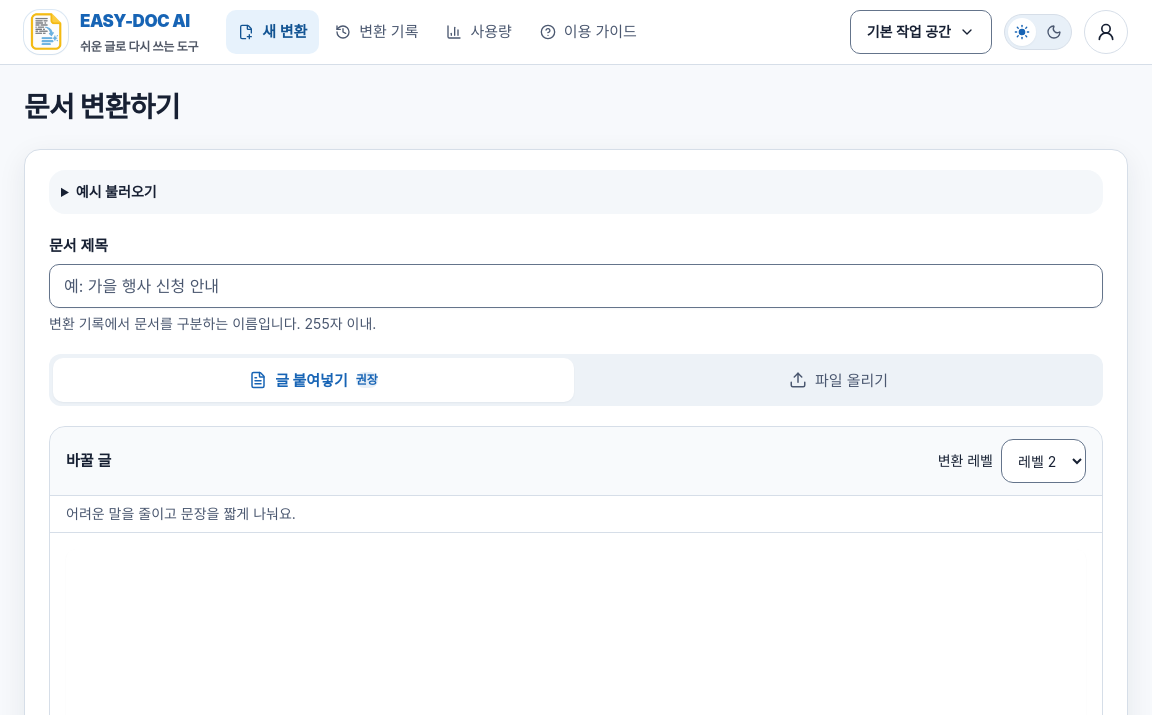
Test: 인증 가드 › 로그아웃하면 토큰을 지우고 공개 랜딩으로 돌아간다
Click the button named "계정 메뉴".
click(1106, 32)  # box top-left (1084, 10), bottom-right (1128, 54)
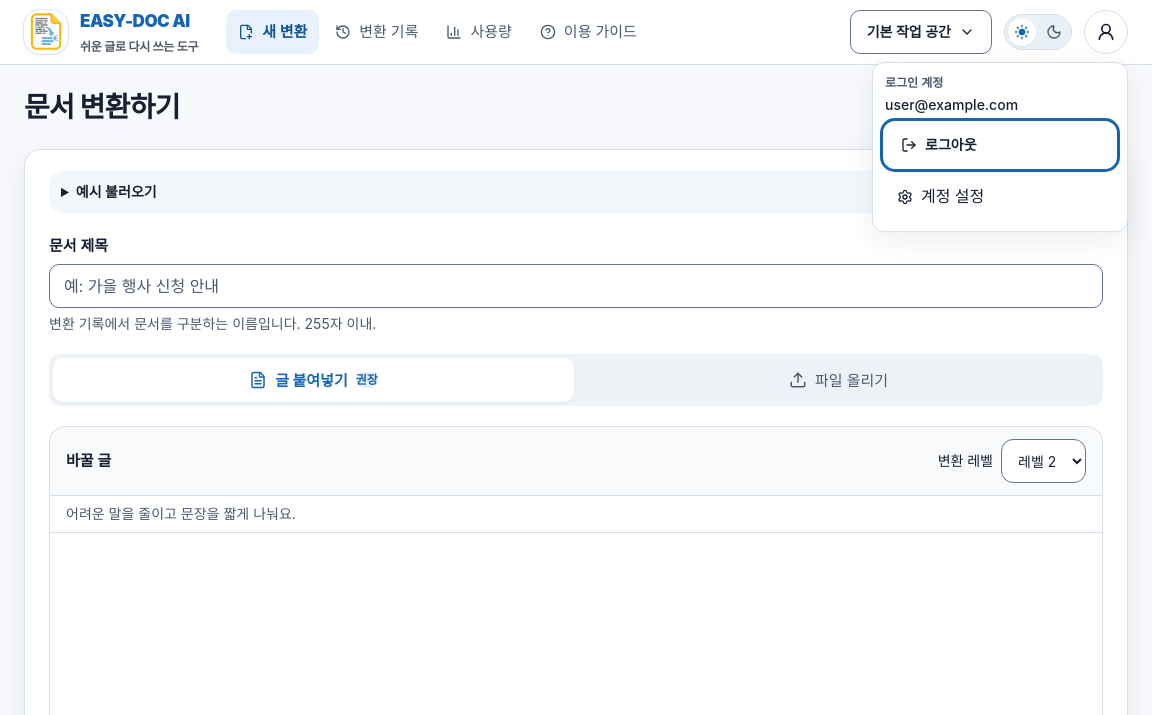
Click the button "로그아웃".
click(1000, 145)  # box top-left (885, 123), bottom-right (1115, 167)
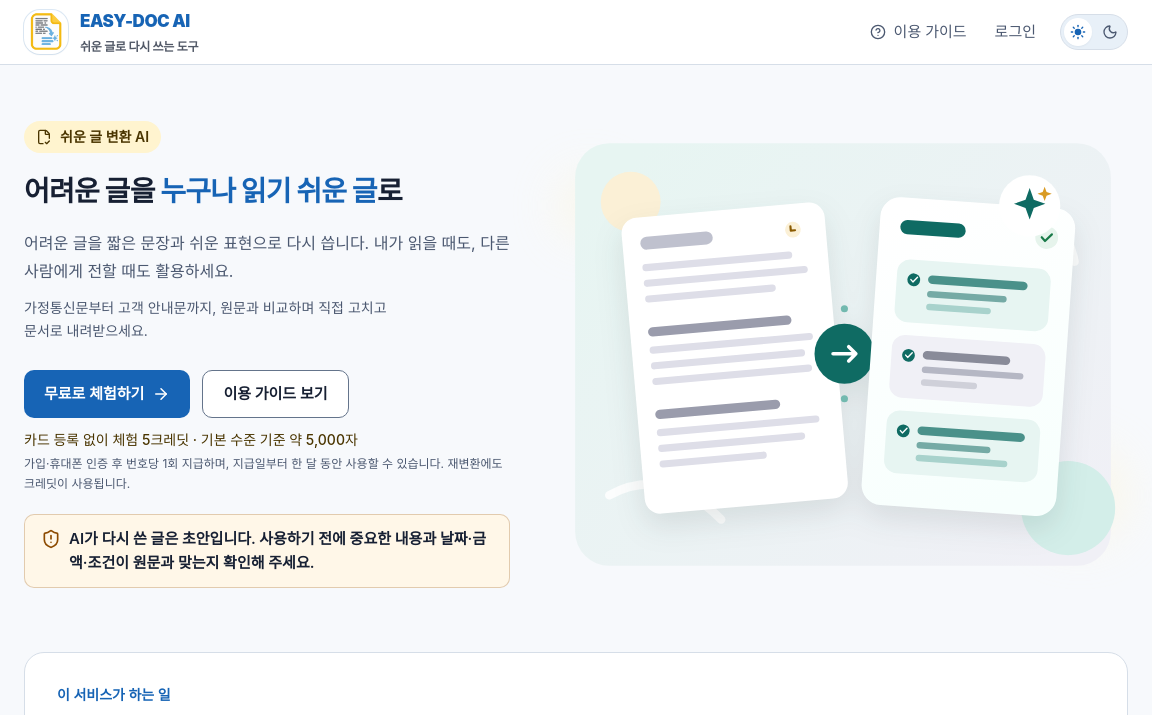
Check: the heading "어려운 글을 누구나 읽기 쉬운 글로" is shown, box top-left (24, 174), bottom-right (402, 208)
